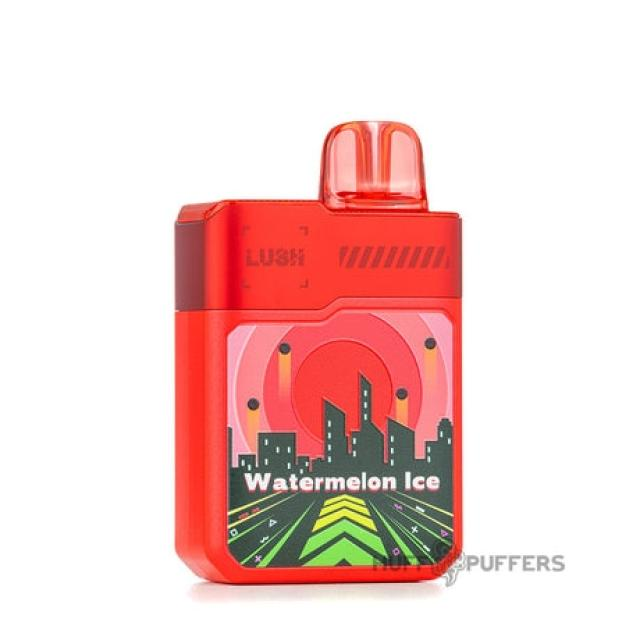Vape-images: (172, 118, 464, 584)
